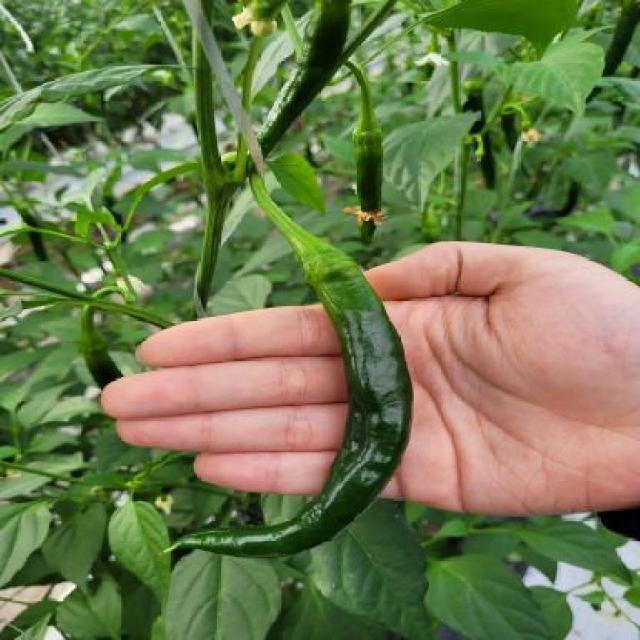green chilli: (158, 258, 414, 558)
